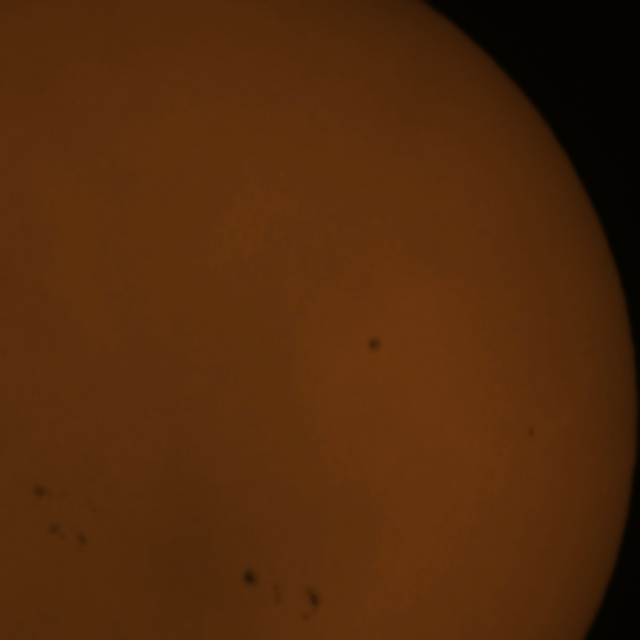sunspot: (47, 520, 92, 548), (298, 585, 323, 626), (239, 566, 260, 590), (365, 334, 384, 356), (31, 482, 51, 501), (74, 530, 90, 550), (526, 424, 537, 440)
